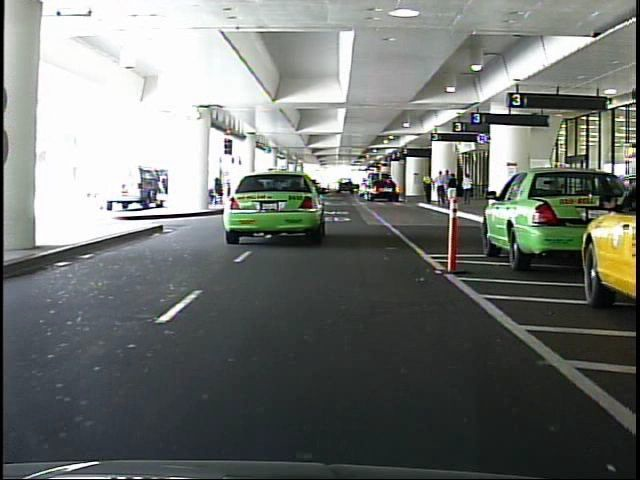person: (460, 170, 477, 211), (420, 169, 436, 209), (436, 167, 449, 209), (446, 172, 459, 213)
